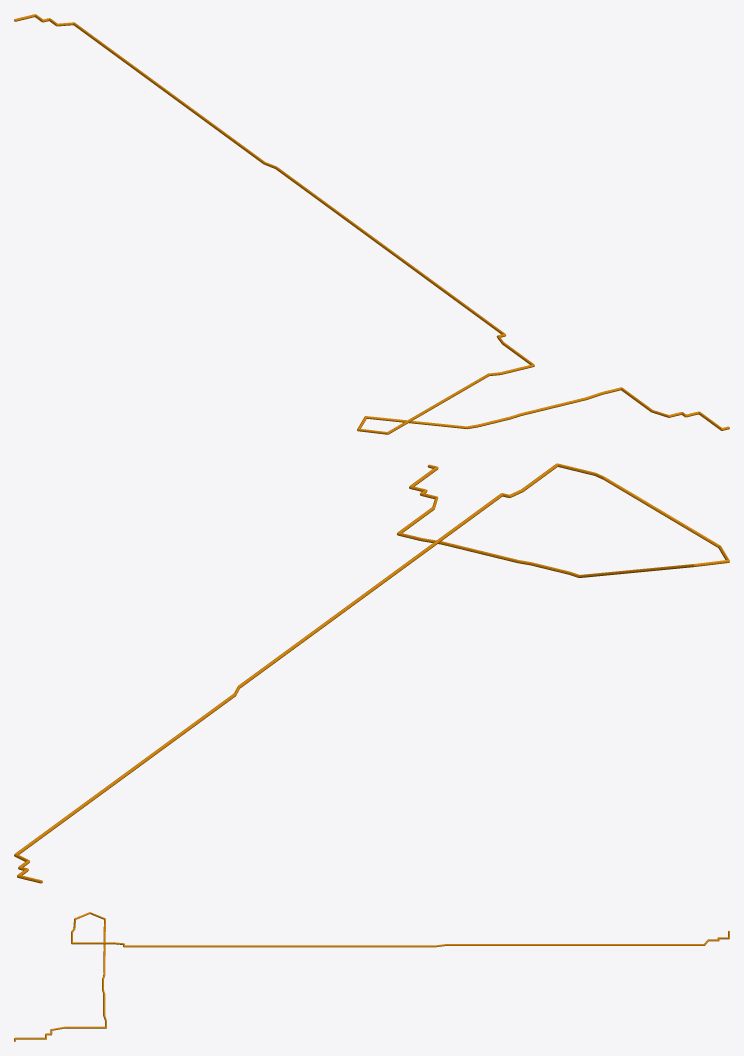
3 views of the same model, one above another, from view 1: azimuth 30°, elevation 25°; view 2: azimuth 150°, elevation 25°; view 3: azimuth 270°, elevation 25° (orthographic). The views are drawn at different scales.
Size of the model in its own units: 2406 by 520 by 6911.
